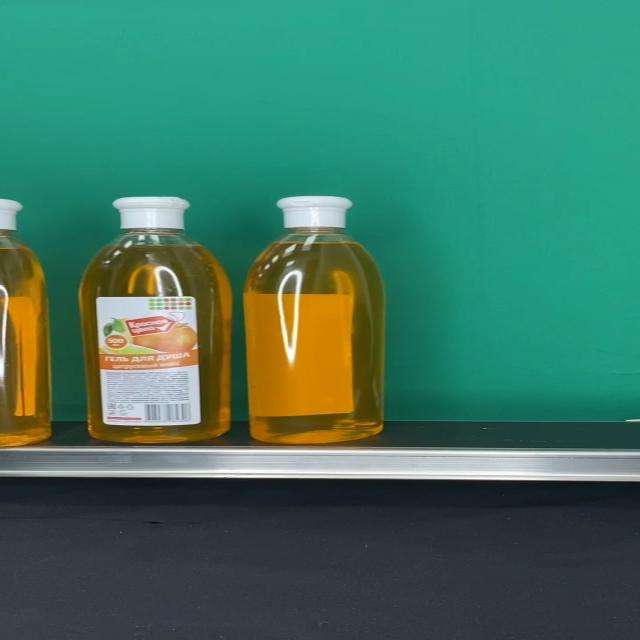Bottle: (80, 197, 232, 444), (242, 196, 385, 444)
Cap: (274, 195, 354, 229), (111, 198, 191, 230)
